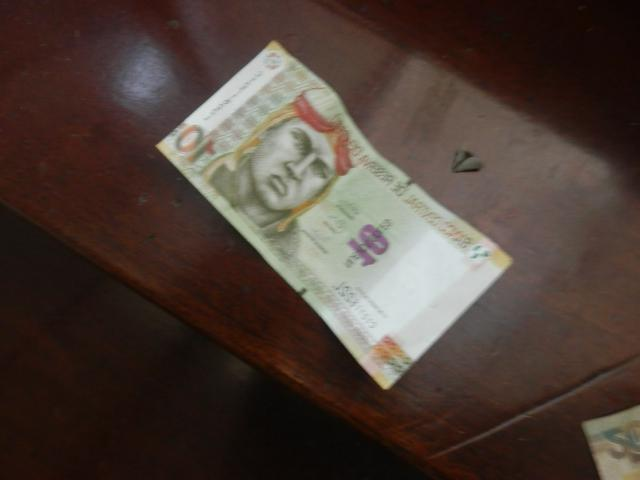B10: (154, 41, 514, 389)
